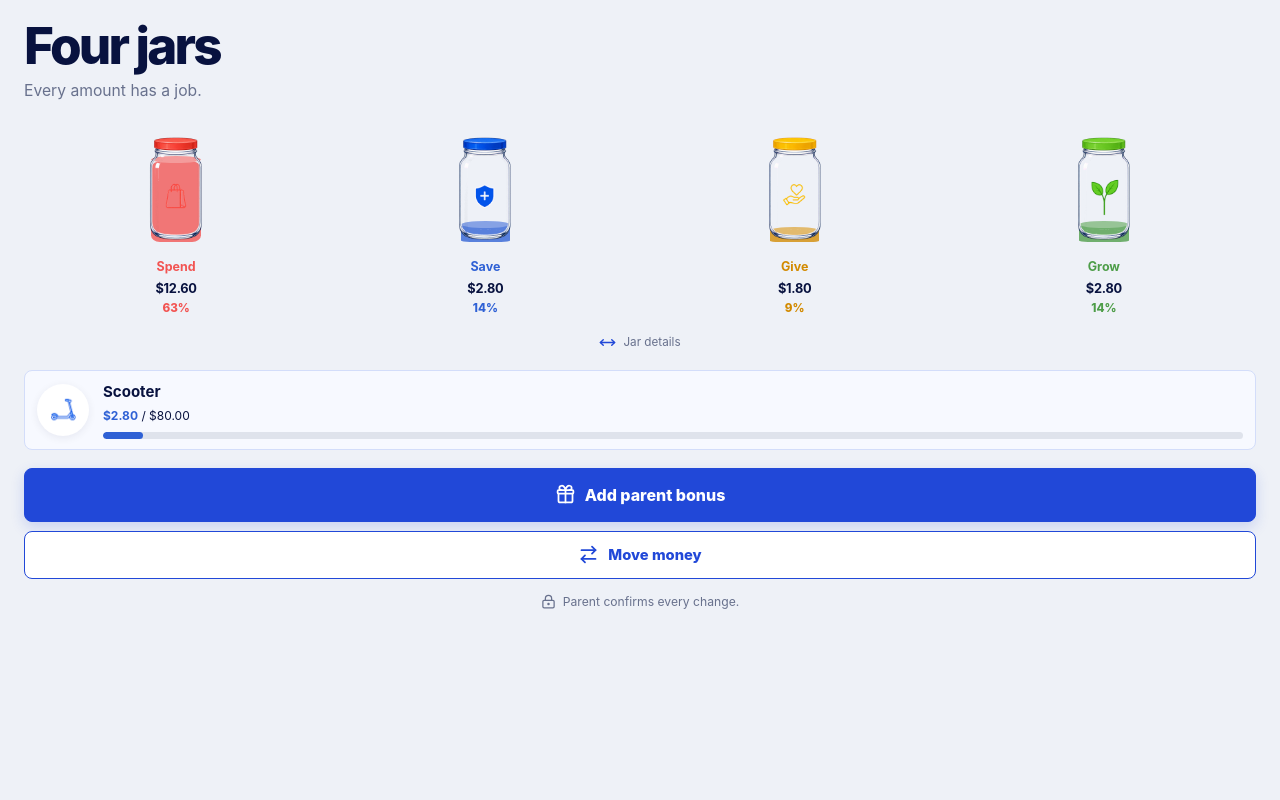
Scenario: approved closed-week experience › keeps parent actions explicit and reviewable
Click the button "Add parent bonus" at (640,495), box 24,468 -> 1256,522
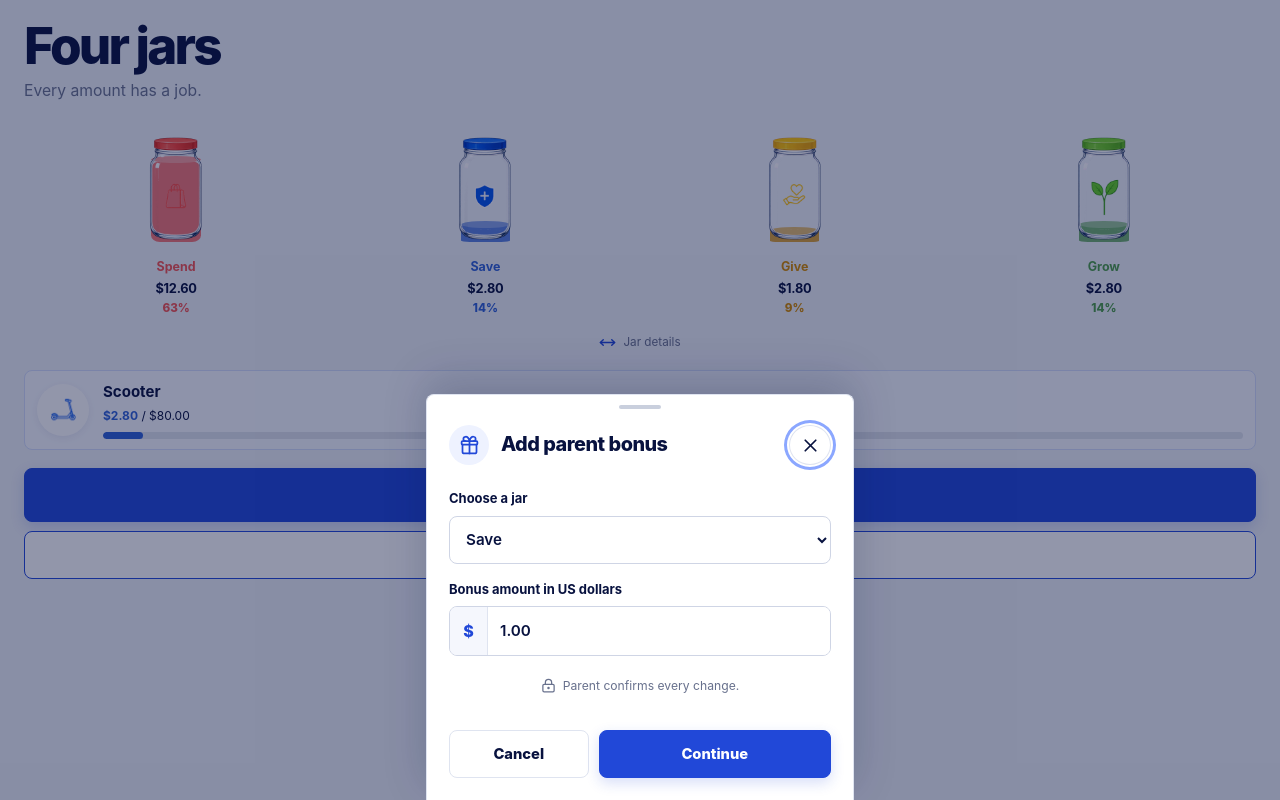
Expected: the dialog "Add parent bonus" is shown, 426,394 -> 854,799
Expected: the text "Parent confirms every change." is shown, 541,678 -> 739,693
